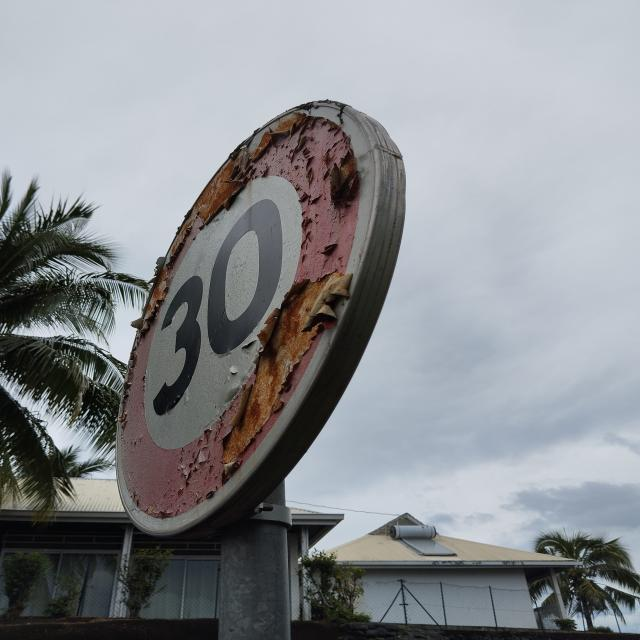Limite-30: (117, 94, 401, 544)
